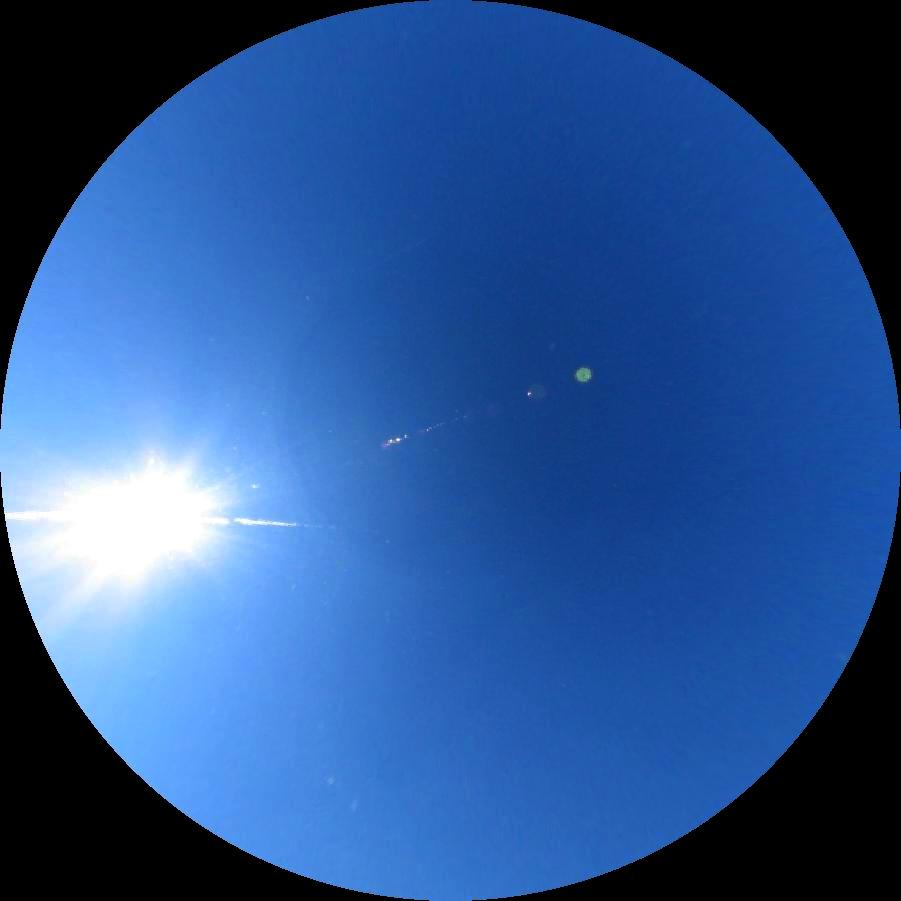contrail young: (355, 236, 430, 280)
sun: (57, 452, 216, 588)
